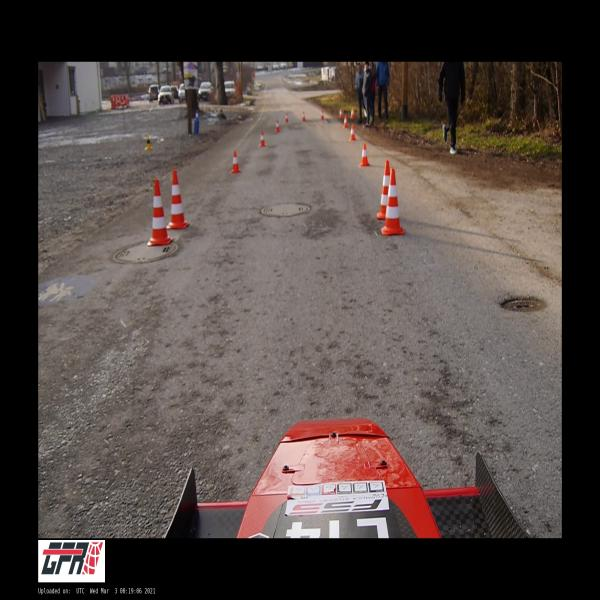blue_cone: (195, 110, 199, 122)
large_orange_cone: (147, 180, 173, 246), (381, 168, 404, 234), (167, 171, 189, 229), (377, 160, 390, 218)
orange_cone: (360, 143, 370, 166), (231, 151, 240, 173), (349, 124, 356, 141), (260, 131, 266, 147), (344, 115, 348, 128), (350, 108, 355, 118), (276, 120, 280, 132), (285, 113, 289, 123), (302, 112, 306, 121), (339, 109, 343, 118), (321, 110, 324, 120)
yellow_cone: (145, 136, 152, 150)
